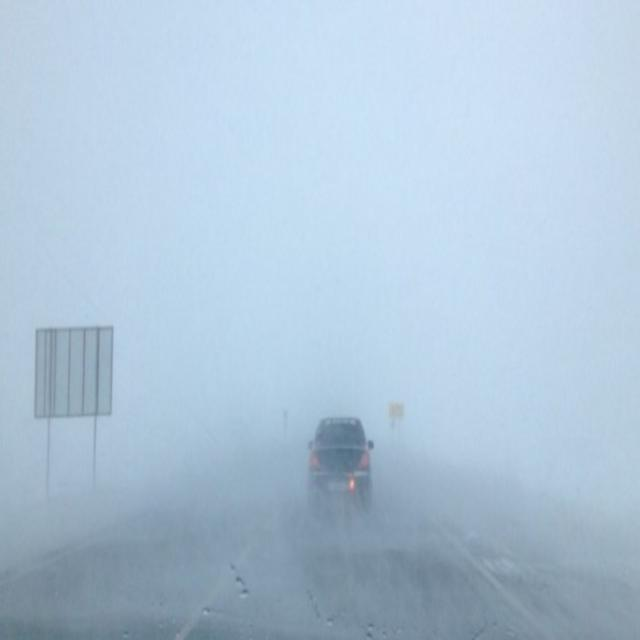car: (306, 414, 374, 511)
